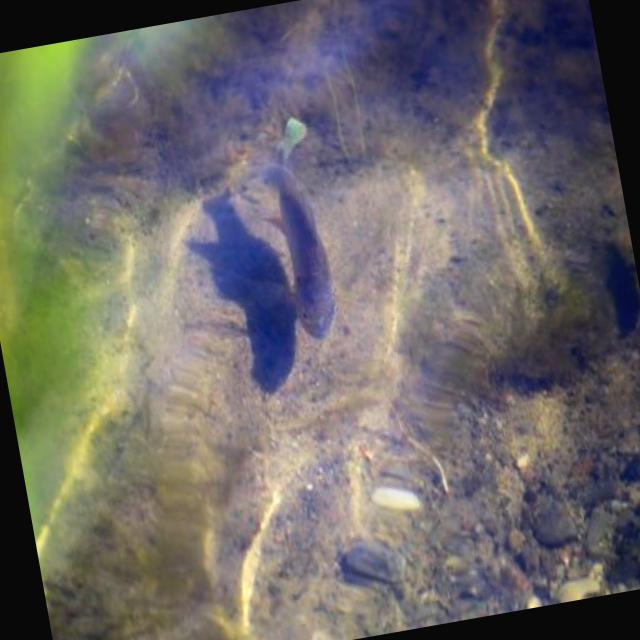Gunes Levregi: (254, 106, 358, 352)
